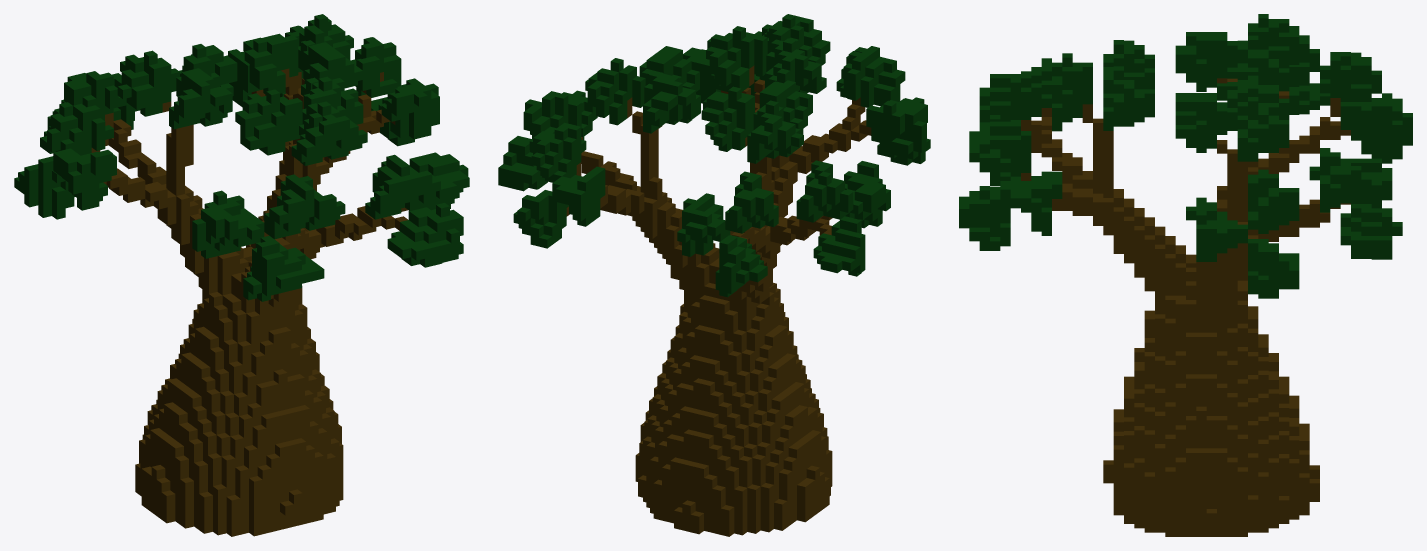
The model's file is Shrub1-0-0.obj.
3 views of the same model, side by side, from view 1: azimuth 30°, elevation 25°; view 2: azimuth 150°, elevation 25°; view 3: azimuth 270°, elevation 25° (orthographic). The views are drawn at different scales.
Parts seen in each view (by area): view 1: 0; view 2: 0; view 3: 0.
Boxes of the visible parts, bbox=[...] form: 0: bbox=[14, 14, 469, 536]; 0: bbox=[498, 14, 930, 536]; 0: bbox=[959, 14, 1412, 536].
Size of the model in its own units: 4.3 by 4.8 by 4.4.
1 material, 1 textured.
